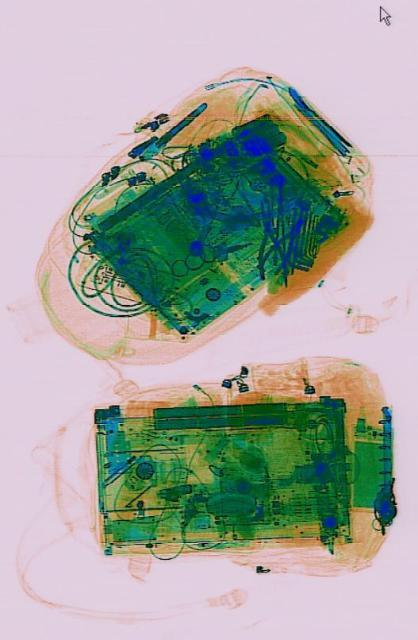Pliers: (256, 206, 308, 280), (249, 195, 287, 291)
